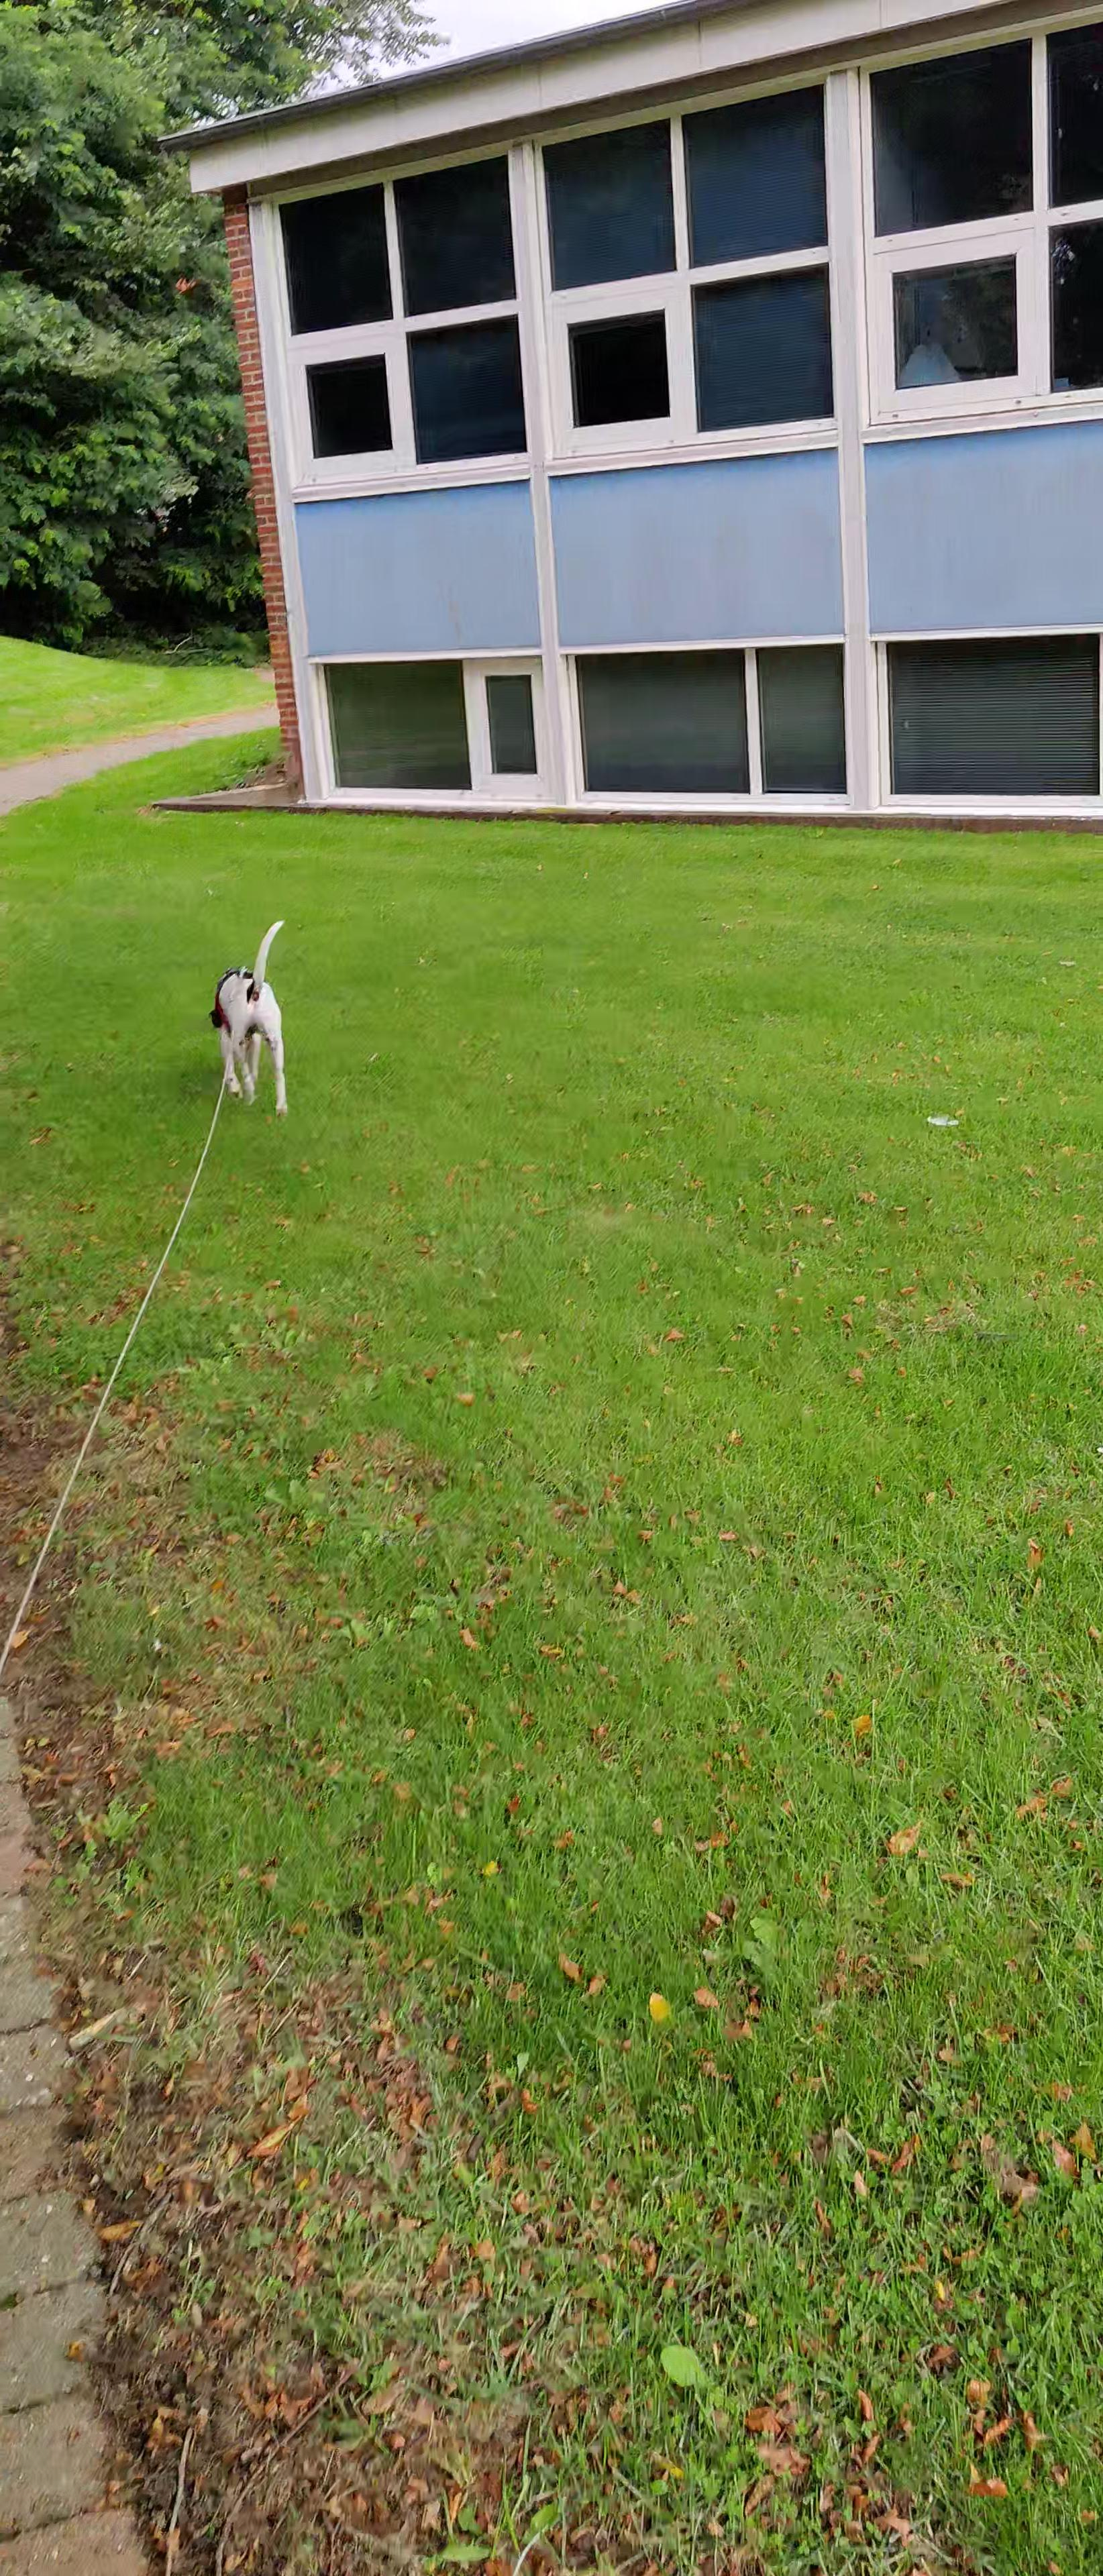Dog: (204, 917, 293, 1125)
